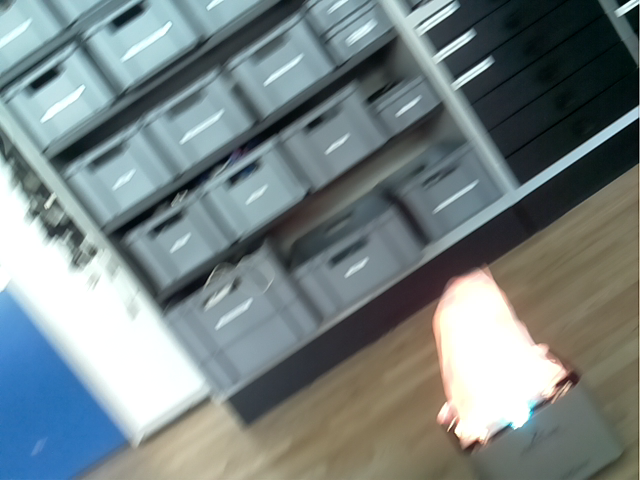fire: (431, 268, 569, 451)
